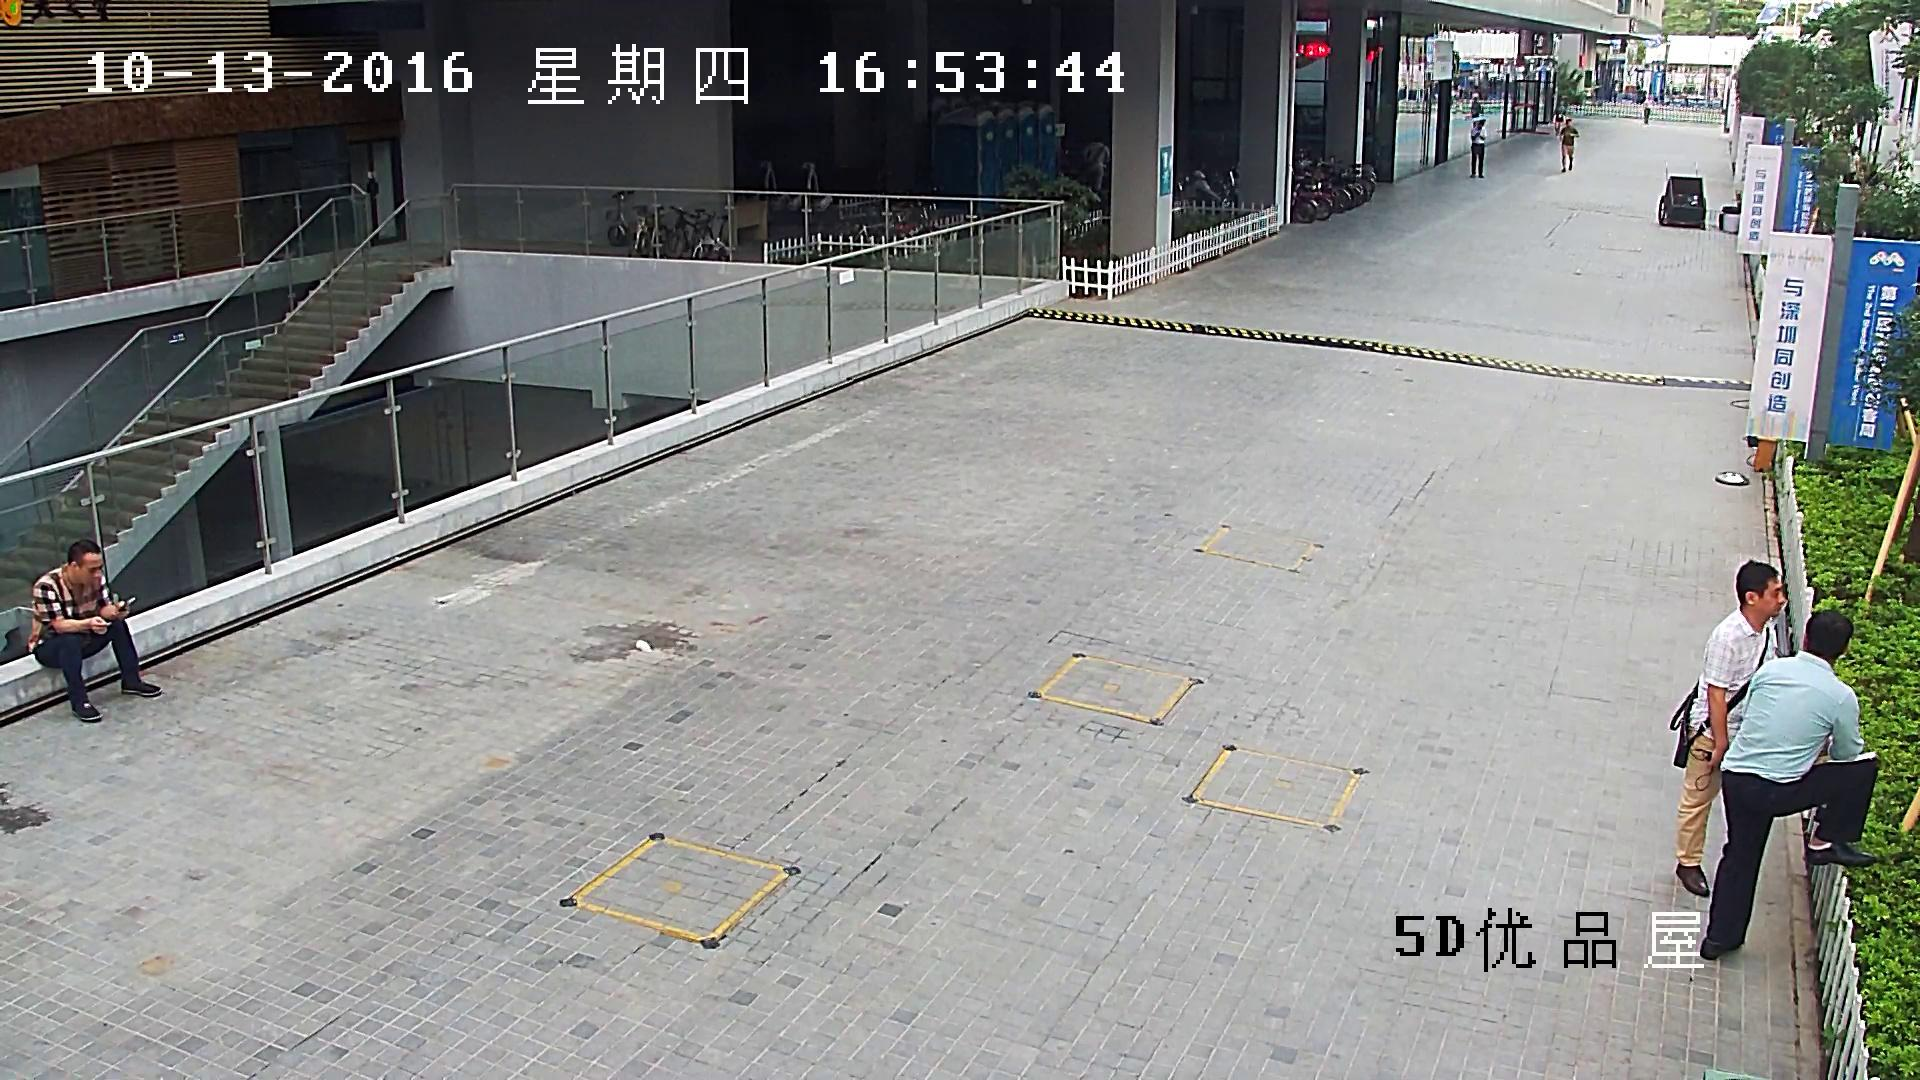person: (1699, 610, 1880, 960), (1668, 558, 1787, 898), (26, 538, 162, 723), (1081, 135, 1110, 192), (1559, 119, 1579, 173), (1469, 119, 1485, 178), (1844, 145, 1861, 182), (1470, 96, 1480, 121), (1643, 95, 1650, 124)
